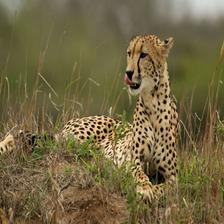Cheetah: (0, 33, 180, 199)
